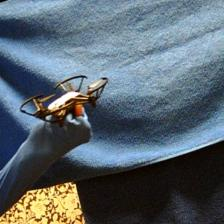drone: (18, 72, 108, 124)
